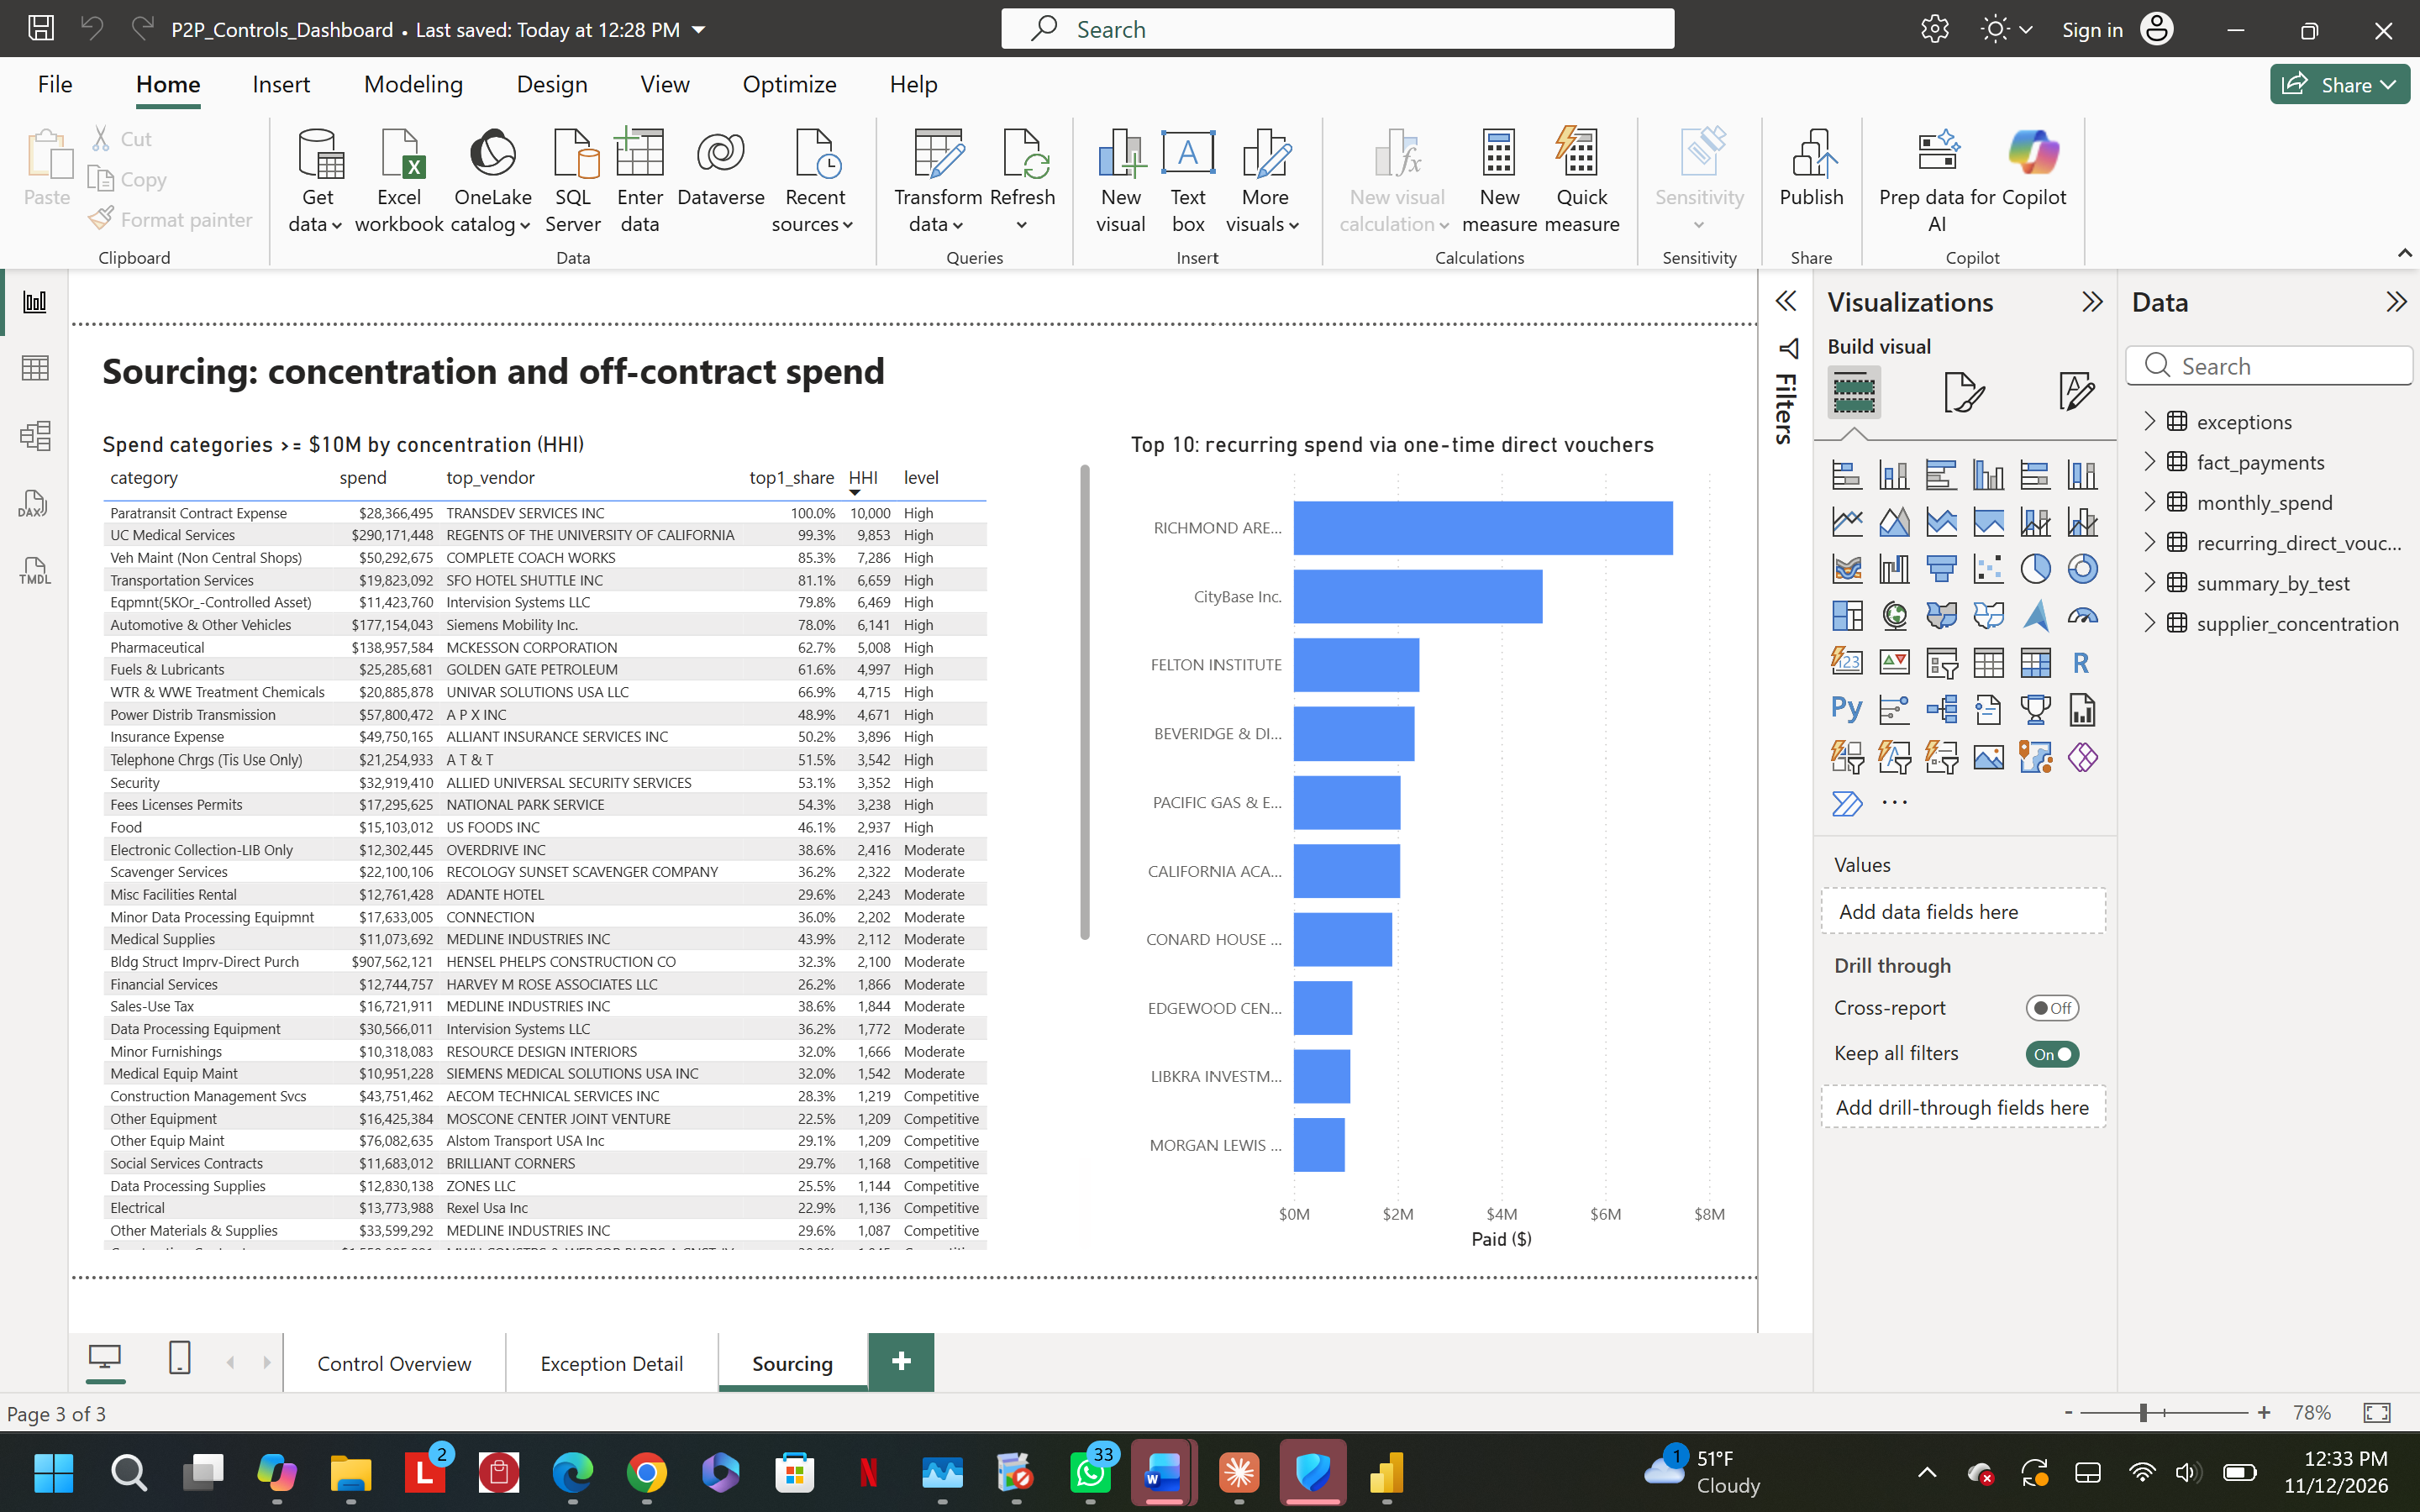

What the dashboard file says about the page in this screenshot:
{"tool":"powerbi","page":{"name":"Sourcing","canvas":[1280,720],"ordinal":2},"visuals":[{"type":"textbox","box":[20,10,950,55],"z":0},{"type":"tableEx","title":"Spend categories >= $10M by concentration (HHI)","fields":{"Values":["supplier_concentration.category","supplier_concentration.spend","supplier_concentration.top_vendor","supplier_concentration.top1_share","supplier_concentration.HHI","supplier_concentration.level"]},"box":[20,80,760,625],"z":1000},{"type":"clusteredBarChart","title":"Top 10: recurring spend via one-time direct vouchers","fields":{"Category":["recurring_direct_vouchers.vendor"],"Y":["recurring_direct_vouchers.Recurring Paid"]},"box":[800,80,460,625],"z":2000}]}

Visuals, with their boxes on the page's 1280x720 design canvas (x1, y1, x2, y2). These are canvas units, not pixel positions in the 2420x1512 screenshot, which may show the page scaled, cropped or inside an application window:
textbox: BBox(20, 10, 970, 65)
"Spend categories >= $10M by concentration (HHI)" tableEx: BBox(20, 80, 780, 705)
"Top 10: recurring spend via one-time direct vouchers" clusteredBarChart: BBox(800, 80, 1260, 705)
